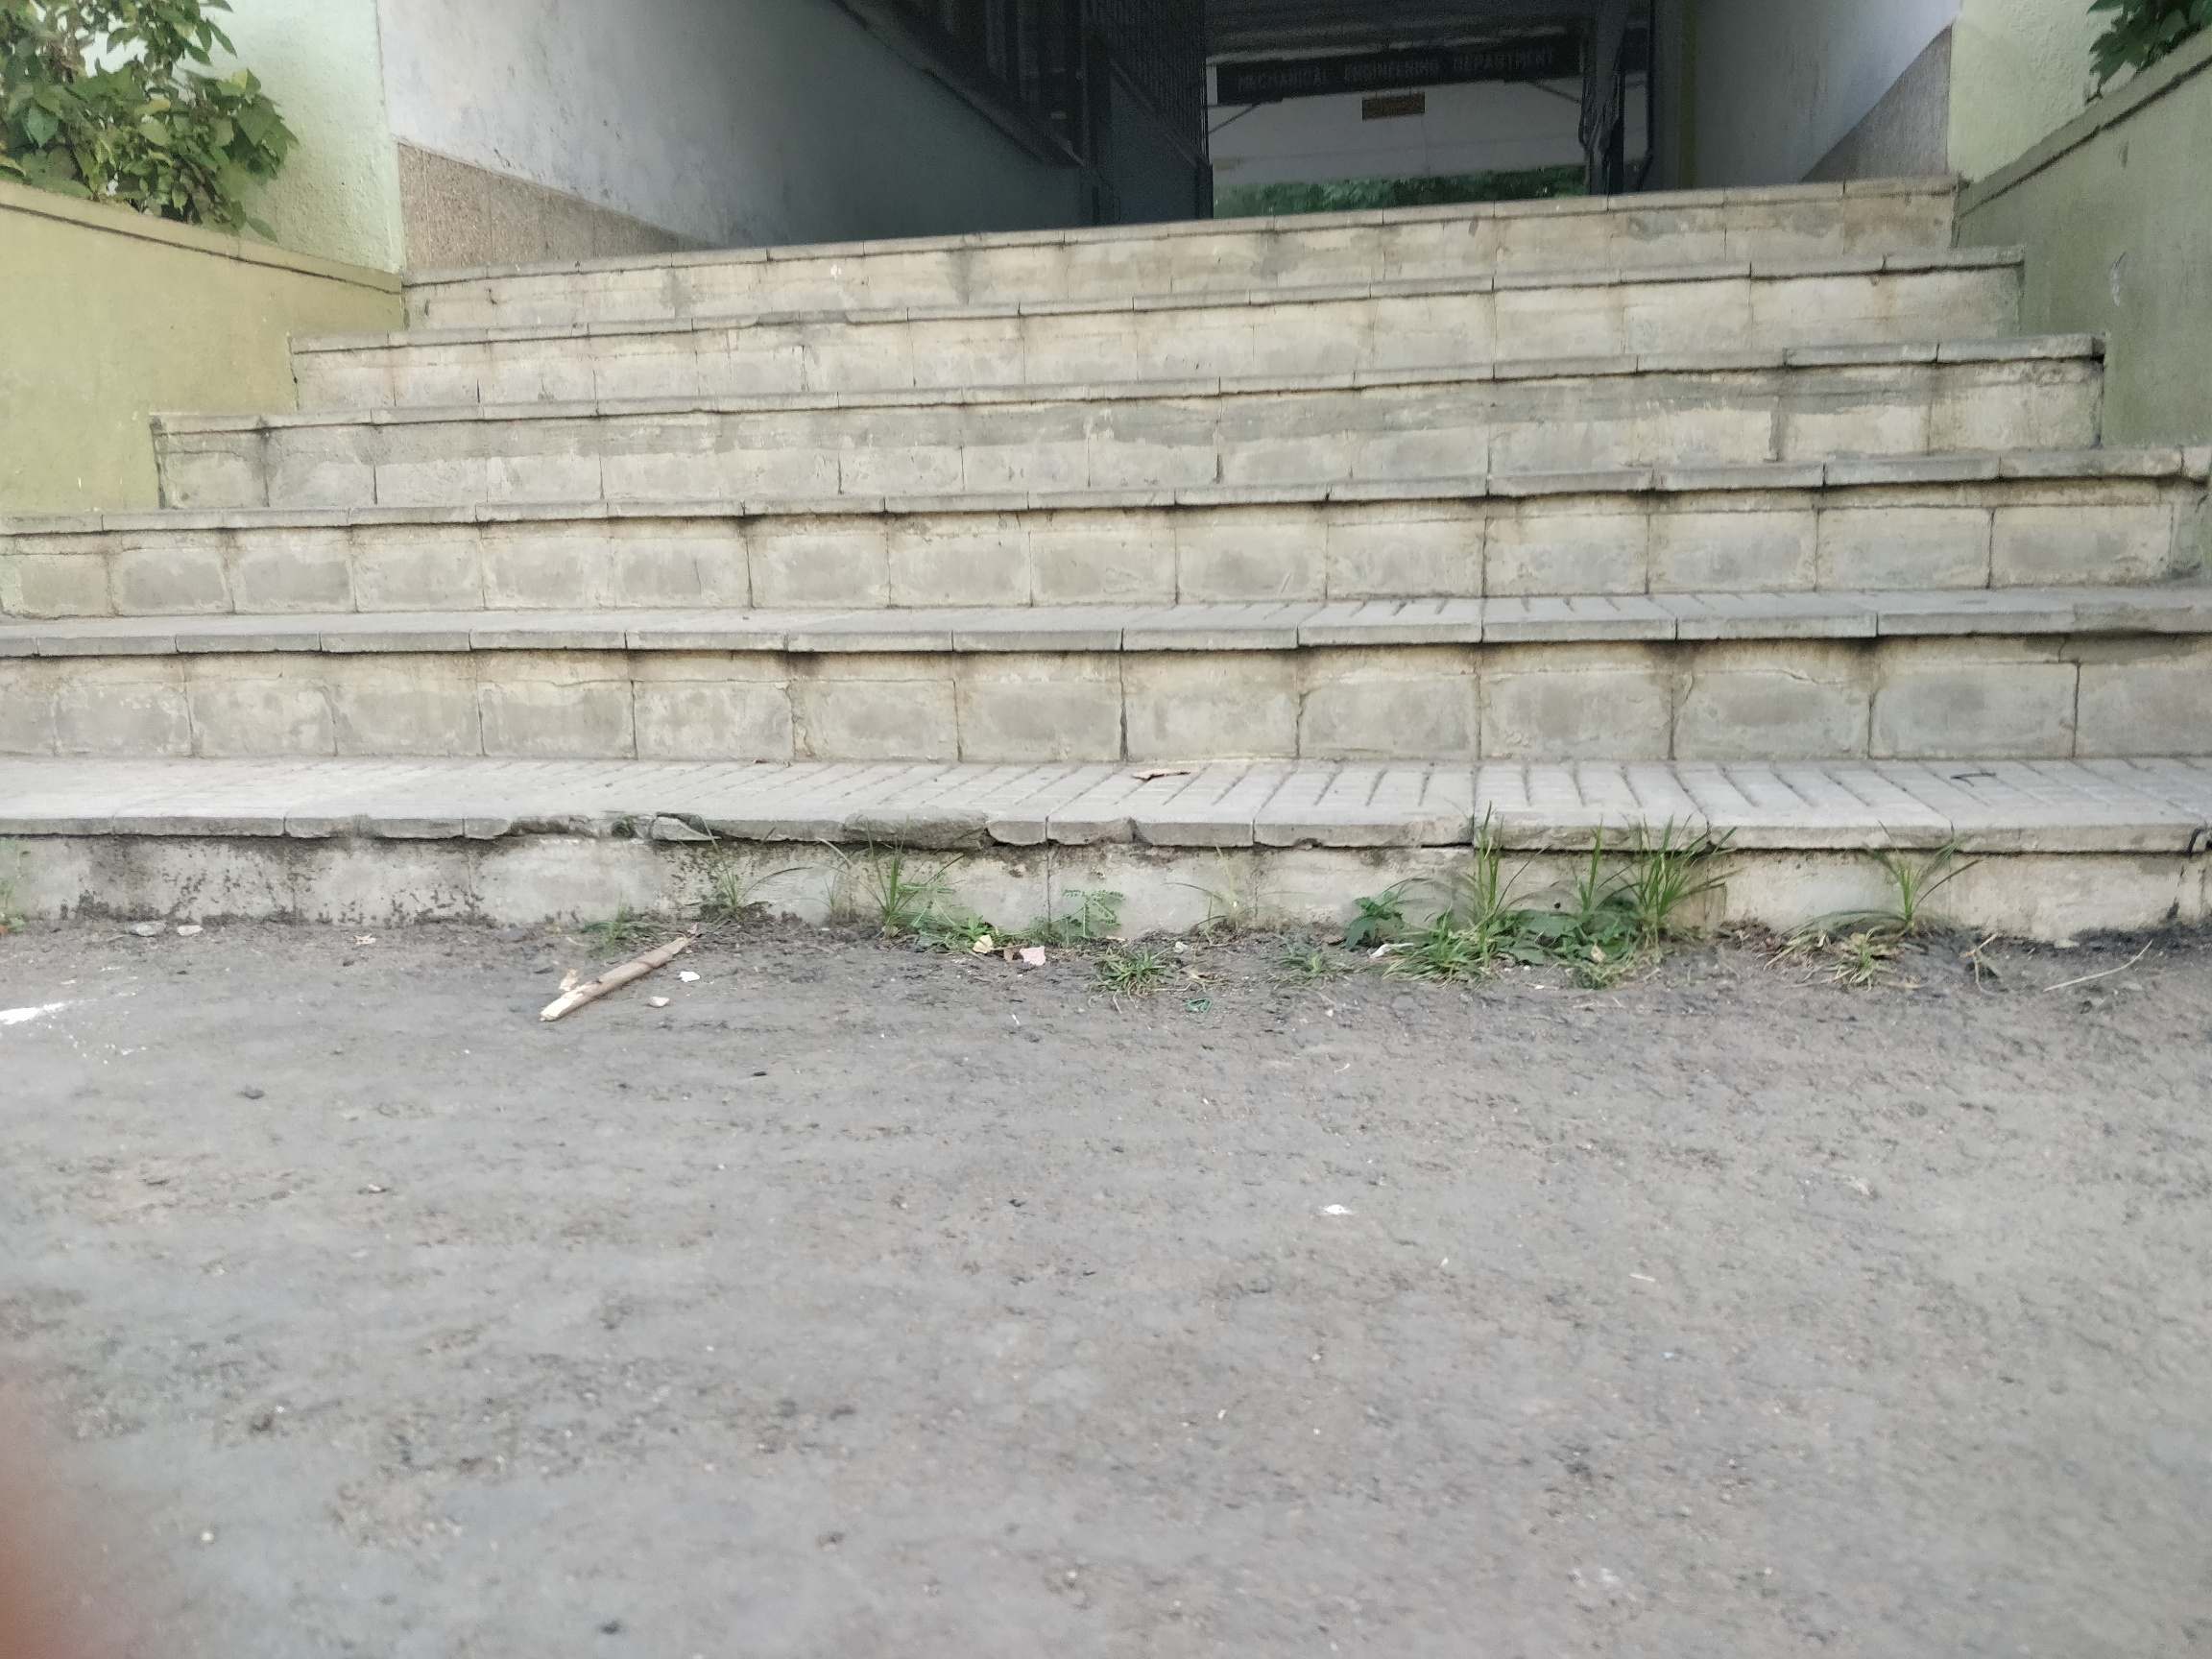stairs_up: (2, 174, 2212, 941)
